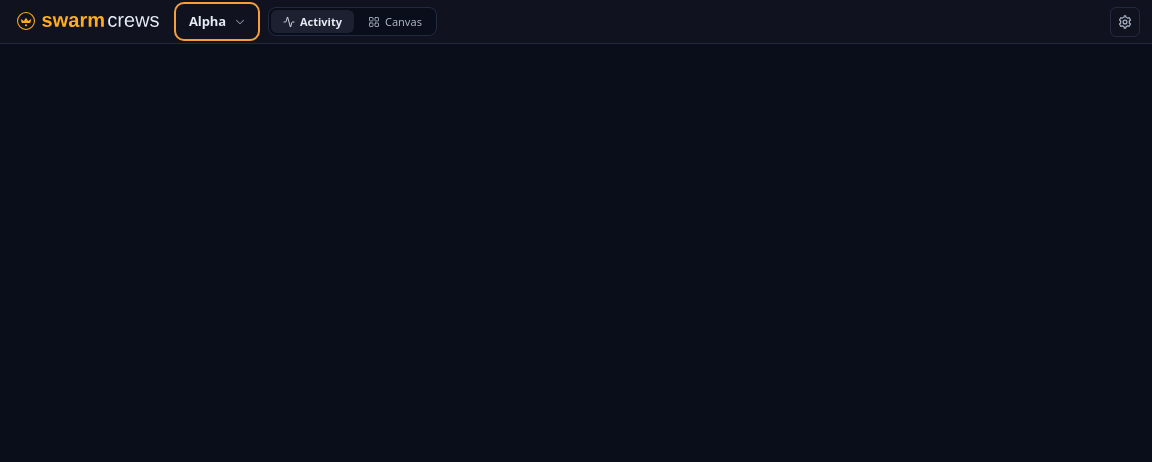
Test: ProjectHeader project navigation › previews active leaders in their workspace and caps the visible roster
Click the button "Alpha" at x=217, y=22, box 178,6 -> 256,37
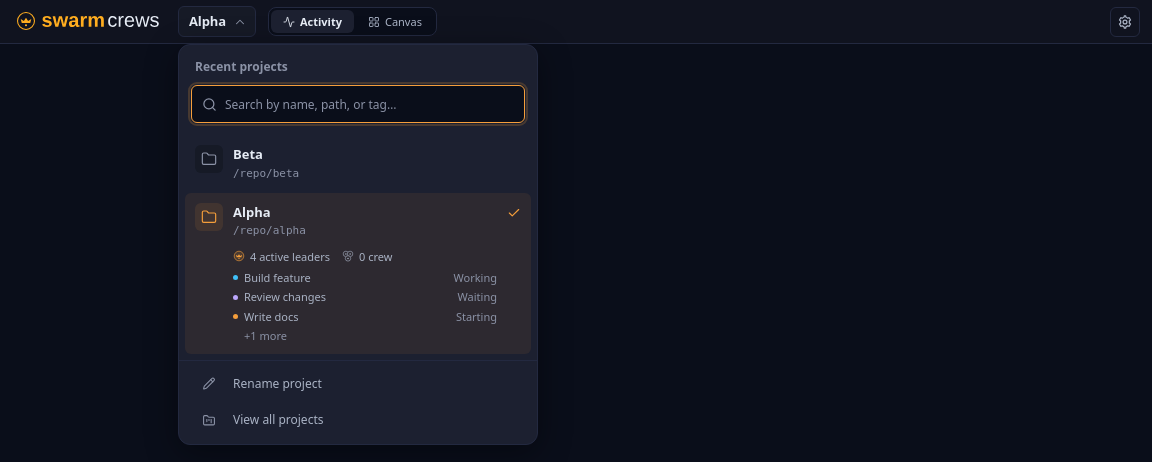
Result: the text "4 active leaders" is shown at 233,248 -> 330,264
Result: the text "0 crew" is shown at 342,248 -> 392,264
Result: the text "Build feature" is shown at 244,270 -> 311,285
